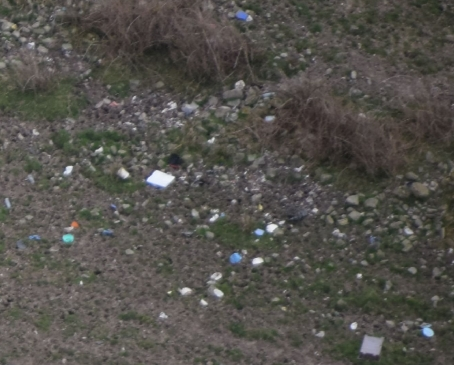scattered_barrel: (1, 155, 290, 317), (344, 314, 439, 365)
white_in_green: (213, 1, 271, 38)
